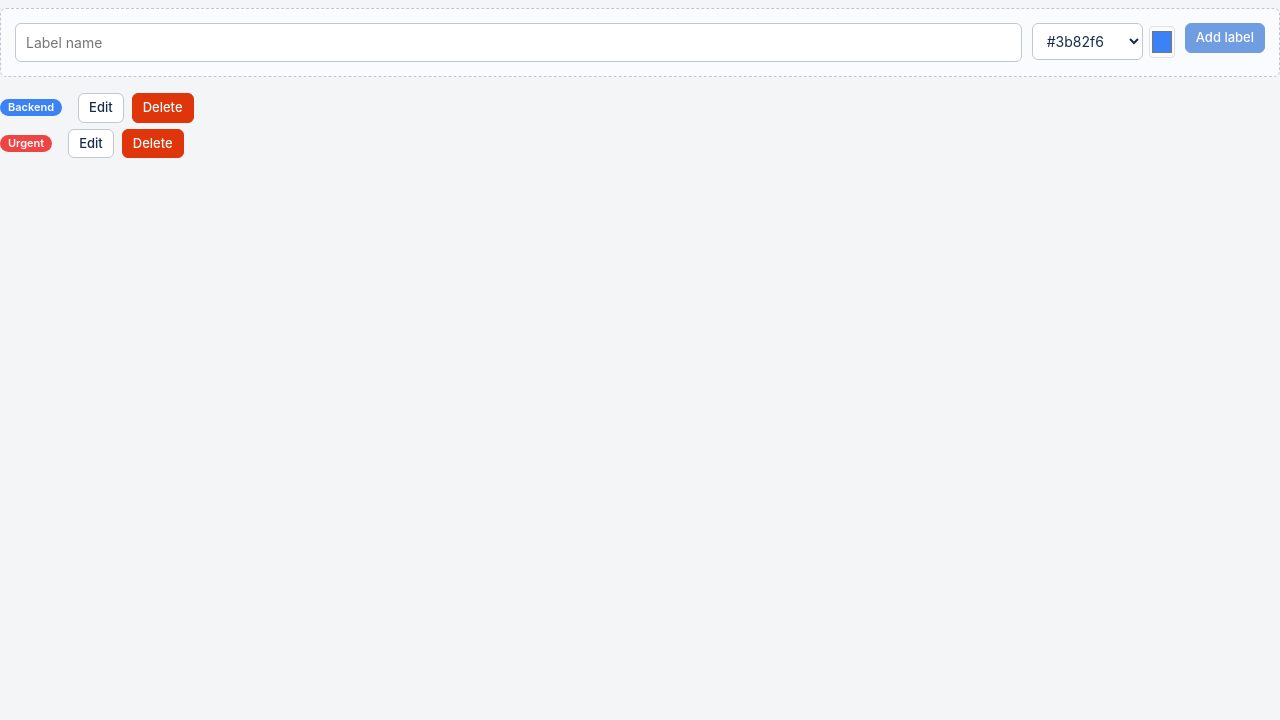
it: LabelsManager — delete (acceptance) › confirms then deletes a label, removing it from the list
Expected: the text "Urgent" is shown, [0,134,52,152]
# Delete the second label (Urgent). A confirm dialog warns it is removed from all tickets.
Click the button "Delete" in the row of "Urgent" at point(153, 143), box [122,128,184,158]
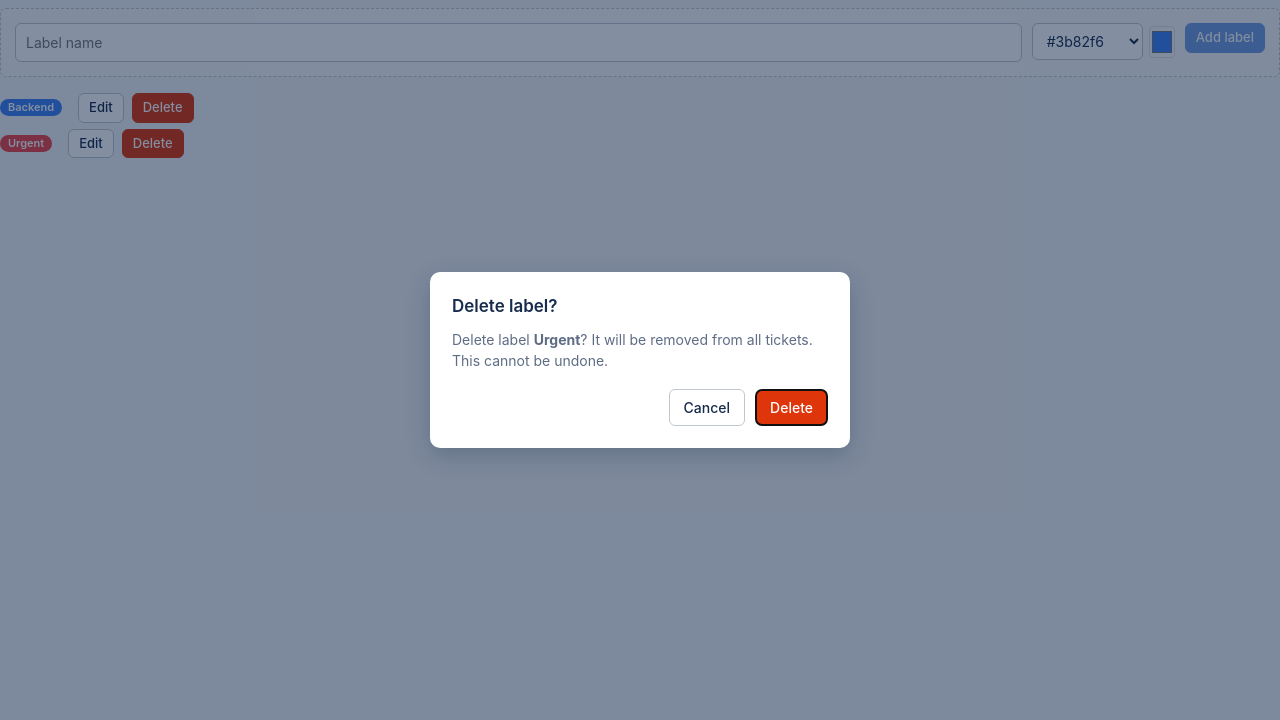
Expected: the text "removed from all tickets" is shown, [452,331,813,369]
Click the button "Delete" at point(792, 408), box [755,389,828,426]
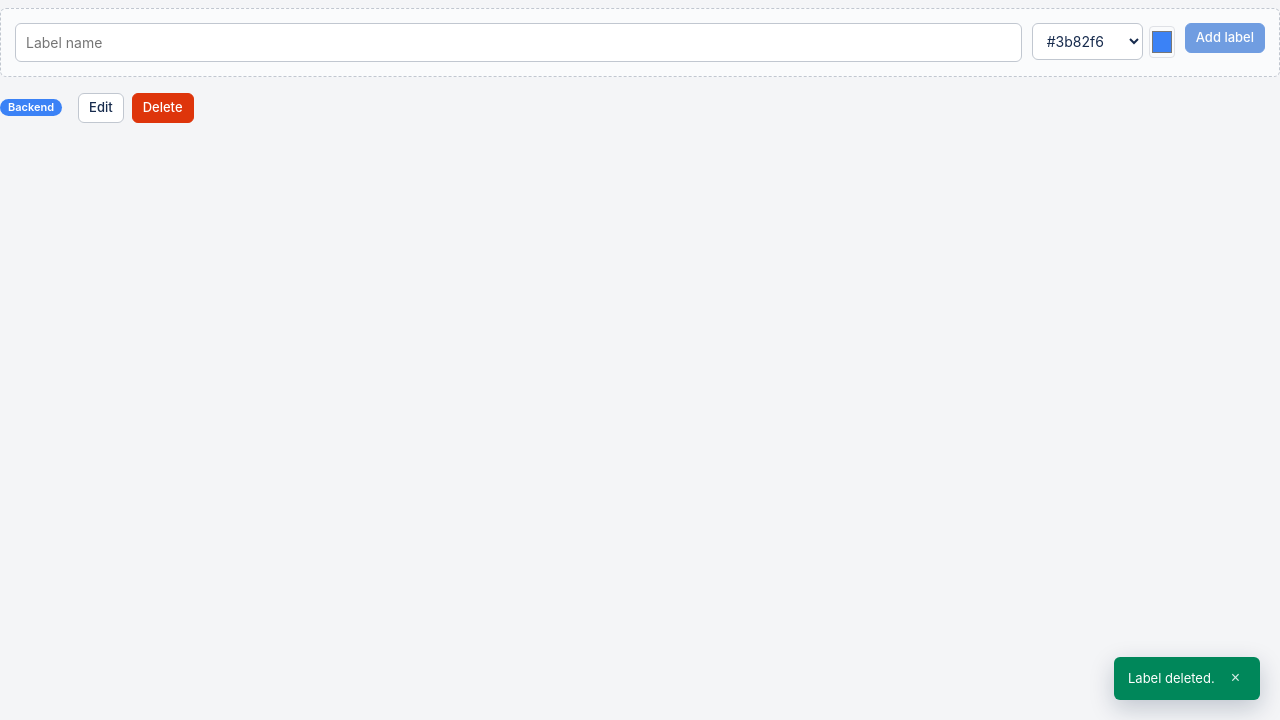
Expected: the text "Urgent" is gone
